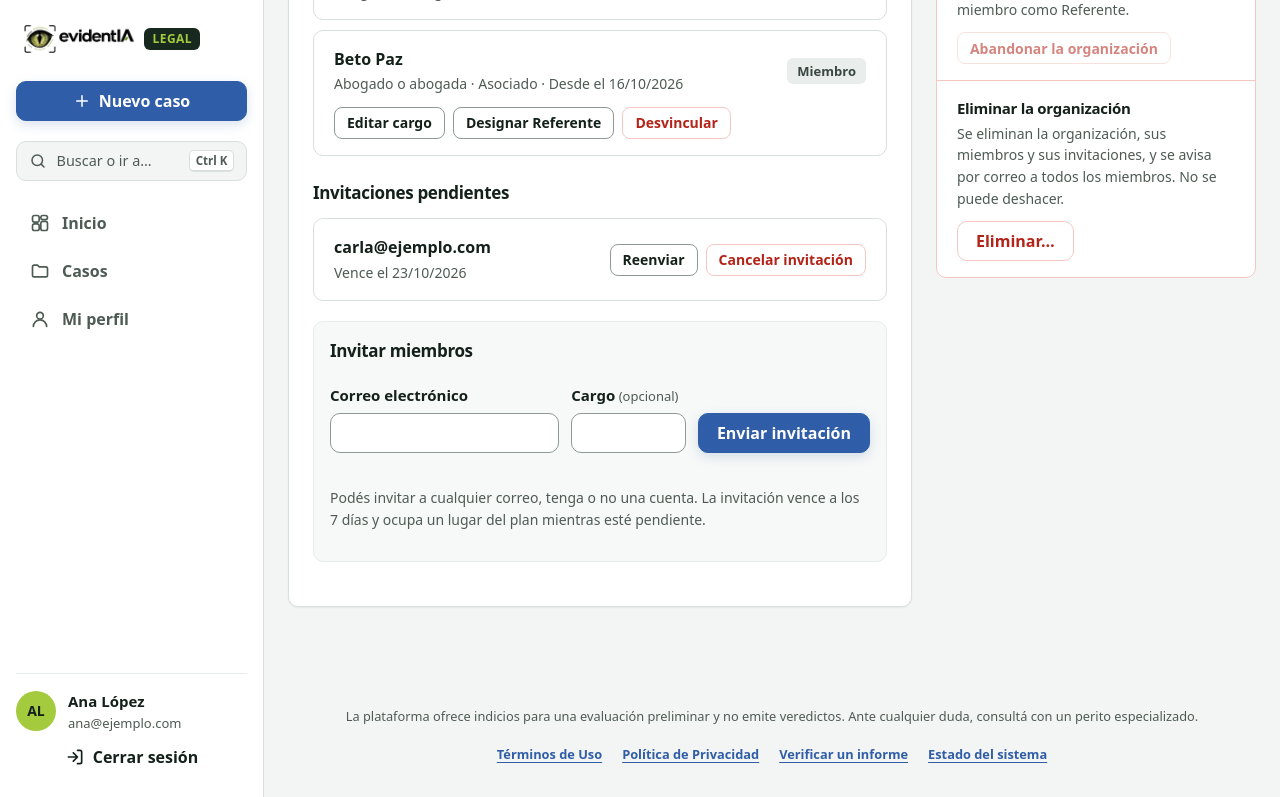
Test: pantalla de la organización como Referente › invita a una persona y limpia el formulario (CA5)
(page scrolled)
Type "dani@ejemplo.com" into the field labelled "Correo electrónico" at (445, 433), box [330, 413, 559, 453]
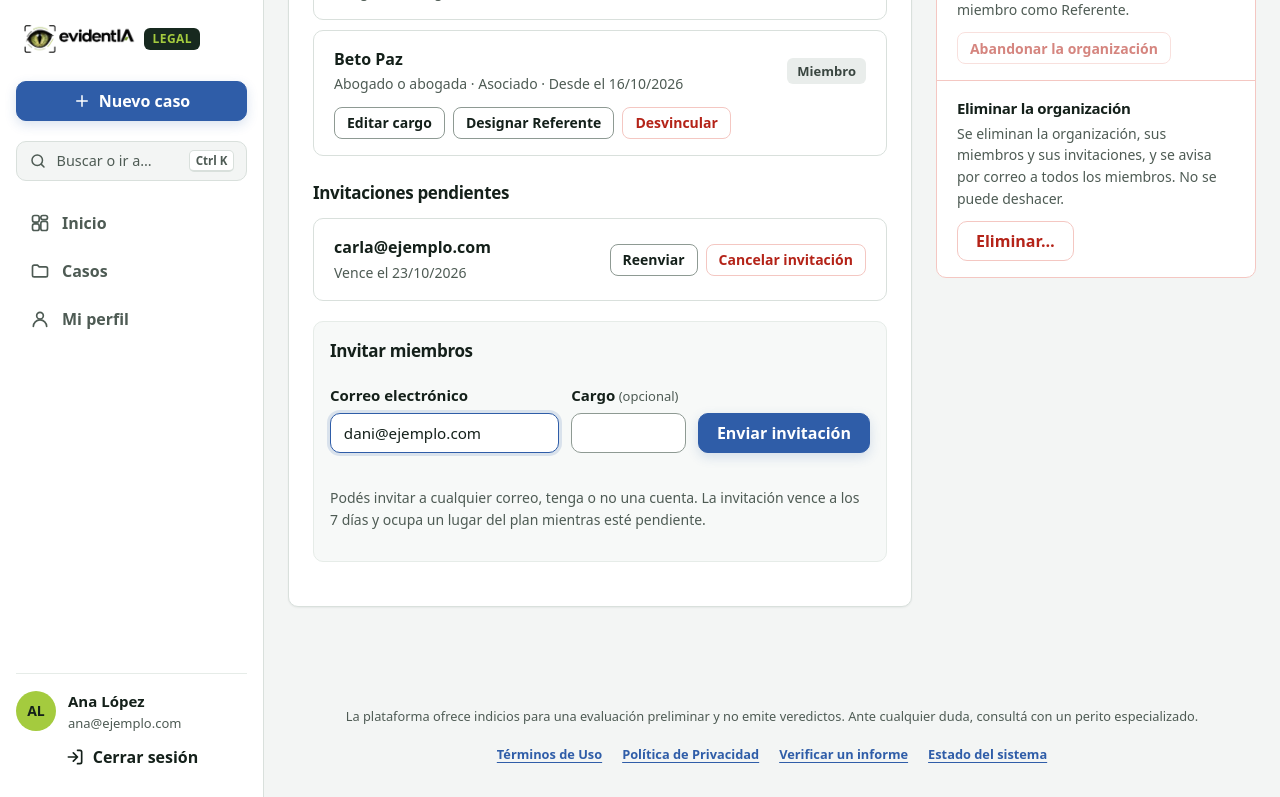
Type "Perito" into the field labelled "Cargo (opcional)" at (629, 433), box [571, 413, 686, 453]
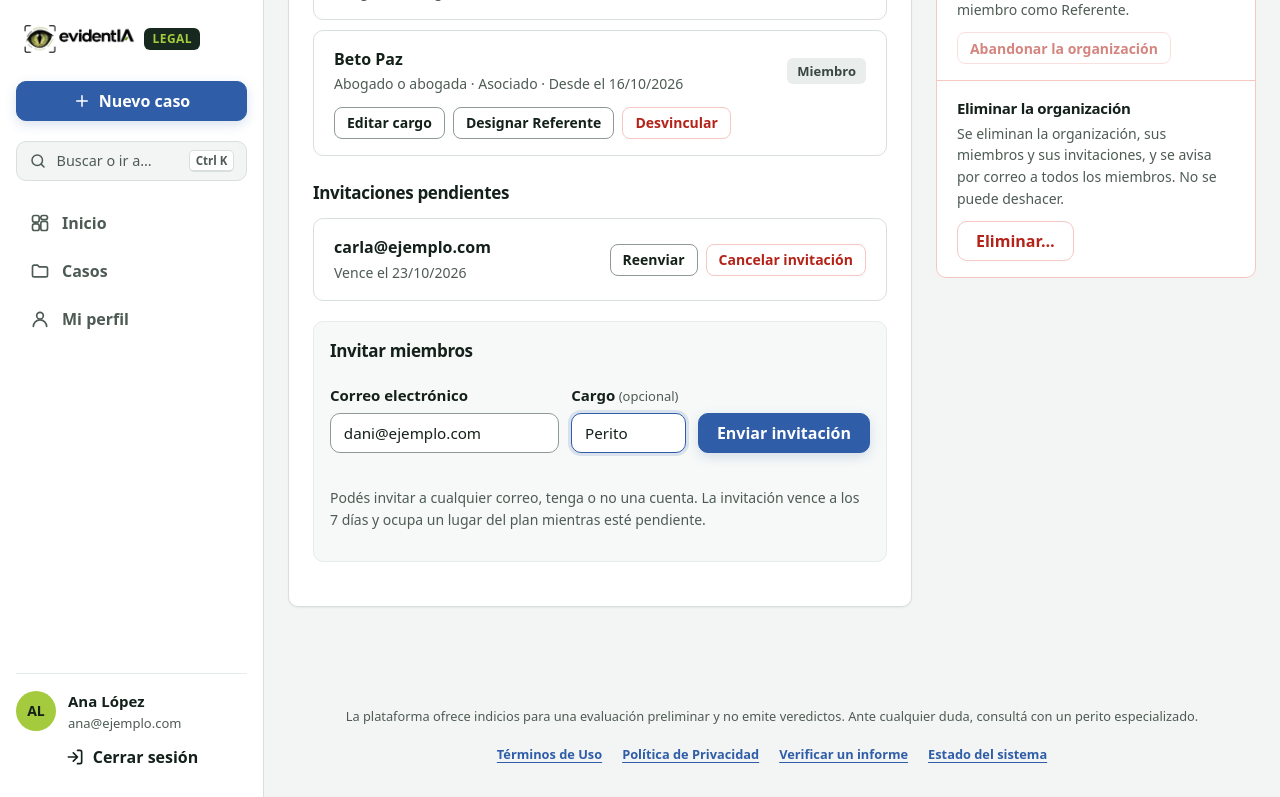
Click the button "Enviar invitación" at (784, 433), box [698, 413, 870, 453]
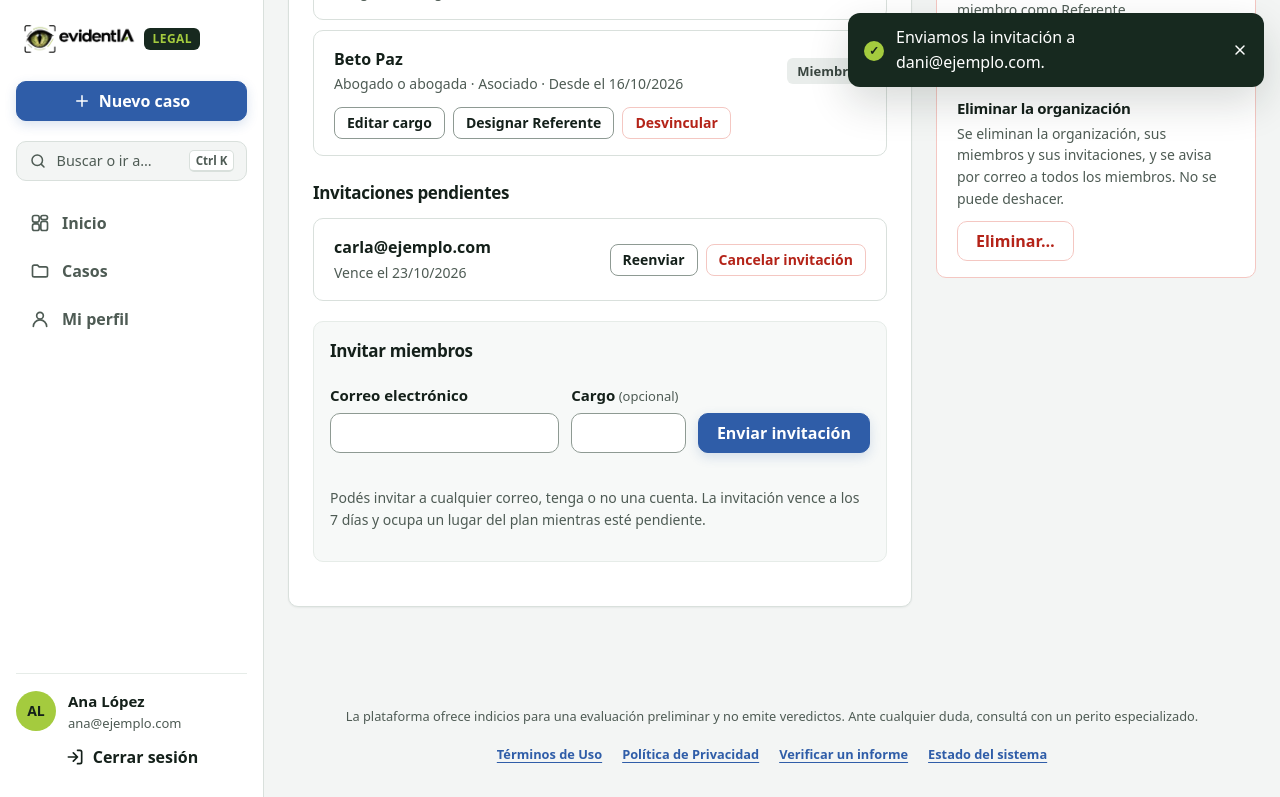
Result: the text "Enviamos la invitación a dani@ejemplo.com." is shown at [896, 26, 1075, 73]
Result: the field labelled "Correo electrónico" is empty at [330, 413, 559, 453]
